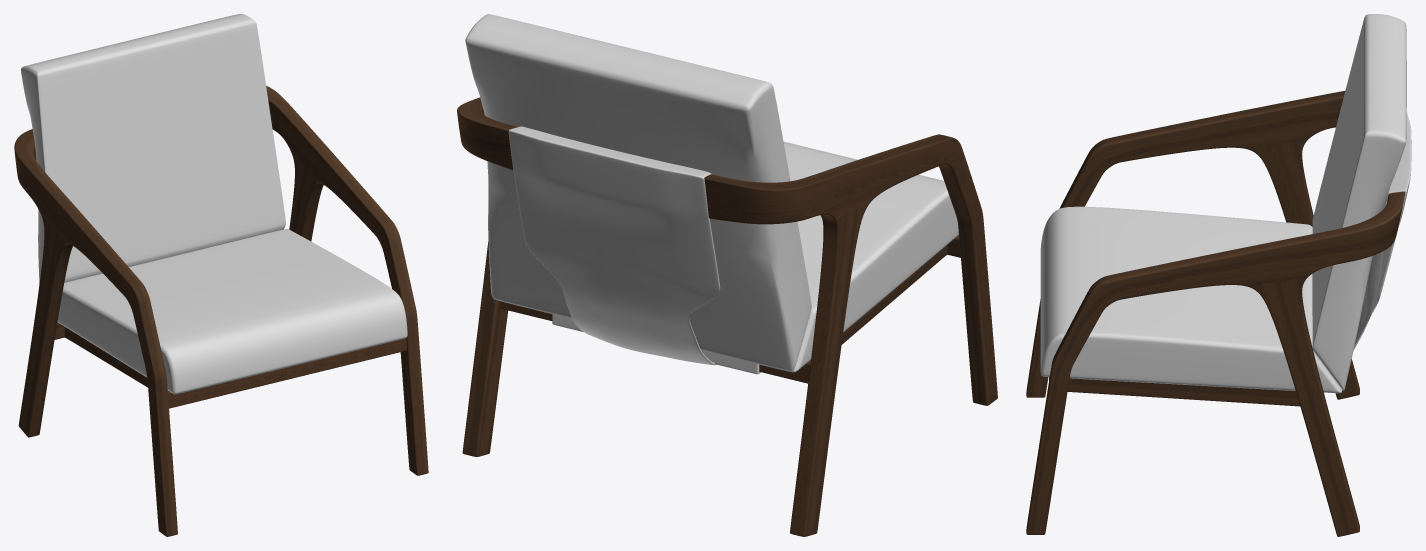
File: SBH_Bruno.glb
3 renders of one model, left to right at view 1: azimuth 30°, elevation 25°; view 2: azimuth 150°, elevation 25°; view 3: azimuth 270°, elevation 25°, orthographic. The views are drawn at different scales.
Parts seen in each view (by area): view 1: Bruno; view 2: Bruno; view 3: Bruno.
Part boxes in pixels (<box>): Bruno: <box>14,14,428,536</box>; Bruno: <box>457,14,997,536</box>; Bruno: <box>1026,14,1411,536</box>.
Size of the model in its own units: 0.6195 by 0.7894 by 0.7002.
Materials: 2 (1 with a texture image).
